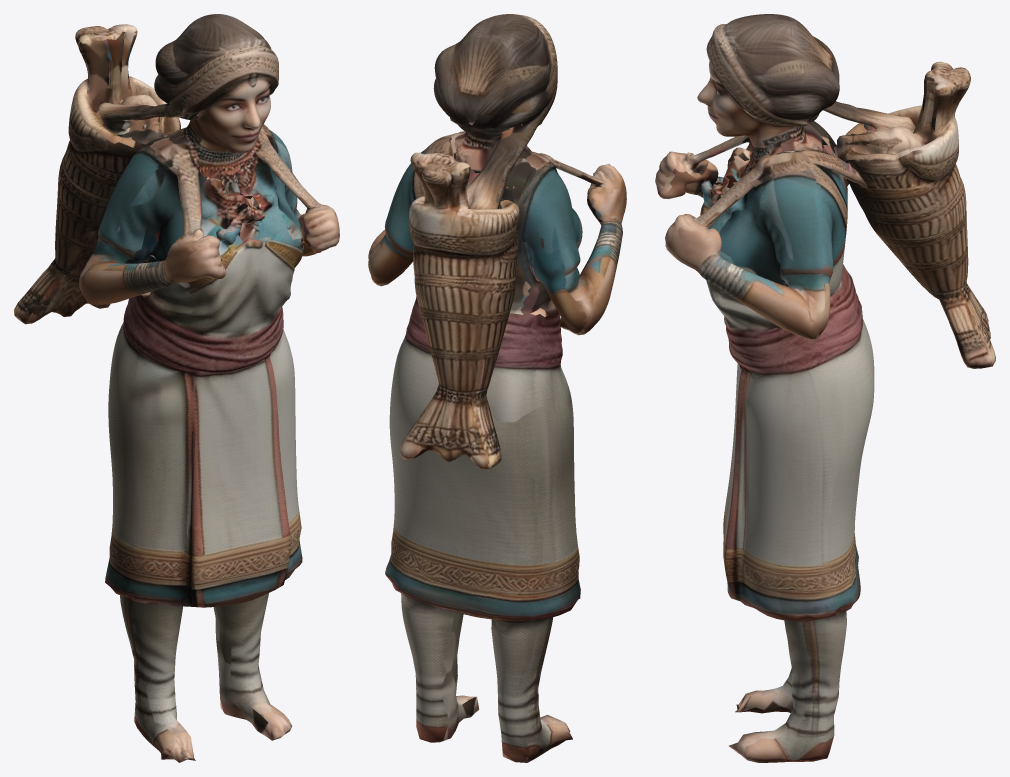
The picture shows the model from 3 angles, left to right: view 1: azimuth 30°, elevation 25°; view 2: azimuth 150°, elevation 25°; view 3: azimuth 270°, elevation 25°; orthographic projection.
Visible parts, largest first — view 1: Character; view 2: Character; view 3: Character.
Boxes of the visible parts, box(x1,y1,x2,y2) form: Character: box(14, 14, 339, 762); Character: box(368, 14, 626, 762); Character: box(655, 14, 995, 762).
Size of the model in its own units: 0.5622 by 1.65 by 0.7092.
Materials: 1 (1 with a texture image).
